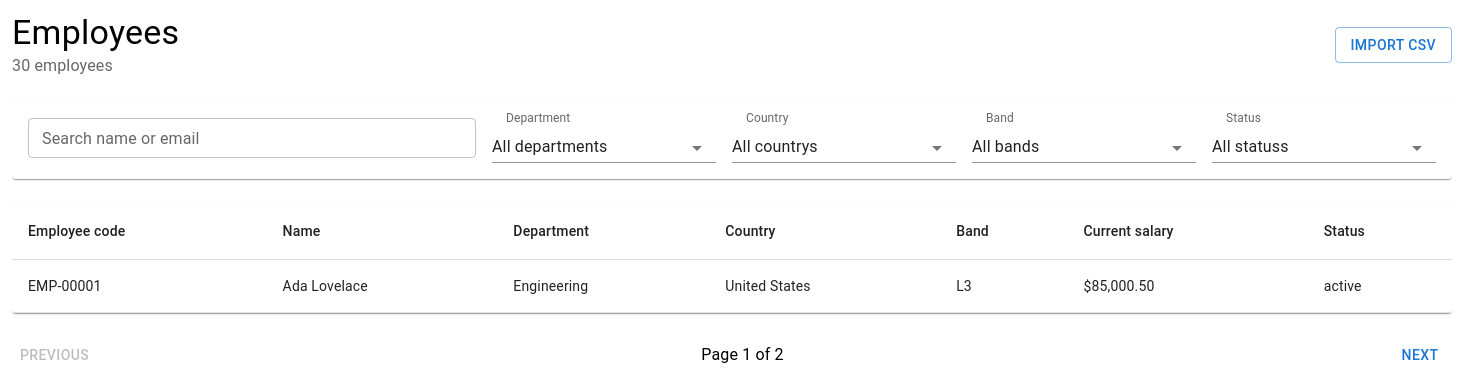
Test case: pagination requests the next server-side page
The width and height of the screenshot is (1464, 390).
expect the text "EMP-00001" is shown: met, box top-left (12, 260), bottom-right (267, 312)
Click the button "Next" at (1420, 355), box top-left (1388, 337), bottom-right (1452, 374)
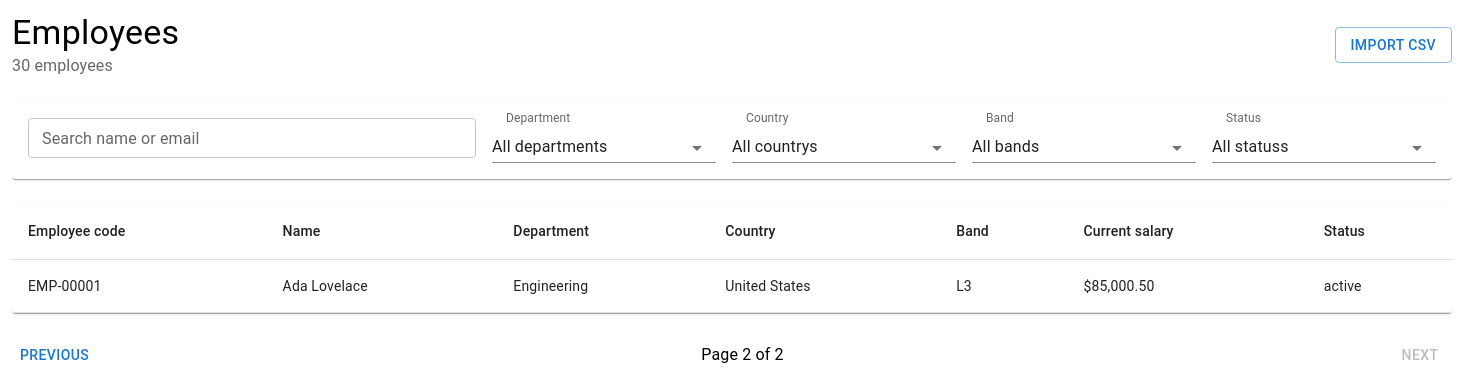
expect the text "Page 2 of 2" is shown: met, box top-left (701, 343), bottom-right (784, 367)
